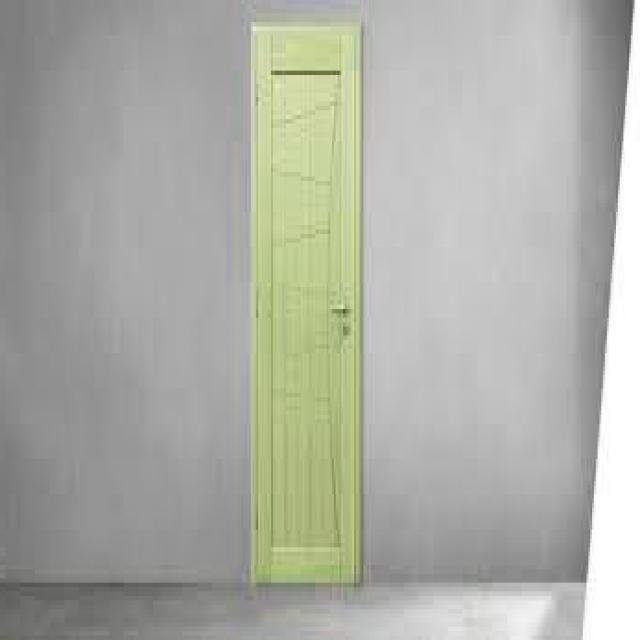door: (249, 20, 362, 586)
